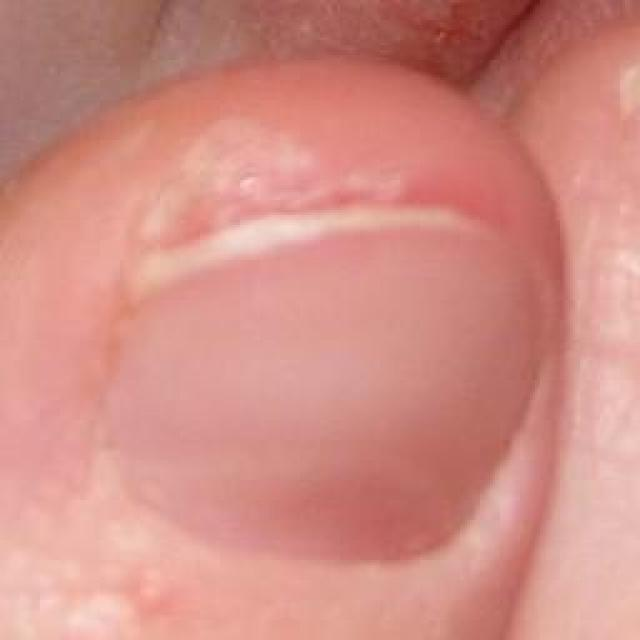Nail: (103, 204, 556, 563)
